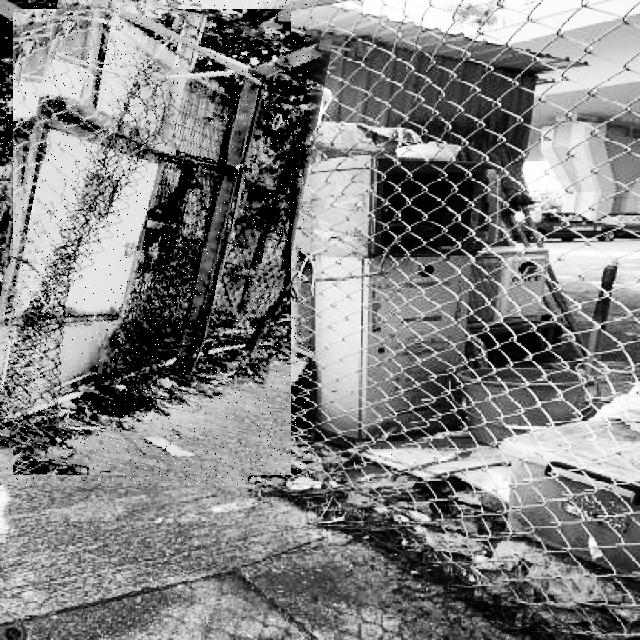anomaly-fence: (0, 0, 311, 486)
